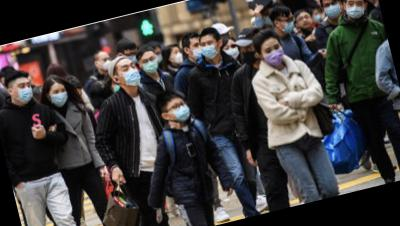with_mask: (116, 60, 143, 89), (260, 41, 286, 67), (166, 99, 192, 124), (11, 79, 36, 104), (238, 44, 261, 68), (49, 85, 70, 108), (200, 37, 221, 60), (140, 53, 160, 75), (278, 14, 297, 35), (222, 41, 241, 60), (189, 40, 205, 59), (123, 48, 140, 65), (98, 55, 113, 71), (169, 48, 184, 64), (311, 11, 323, 24)
without_mask: (296, 13, 314, 29)
